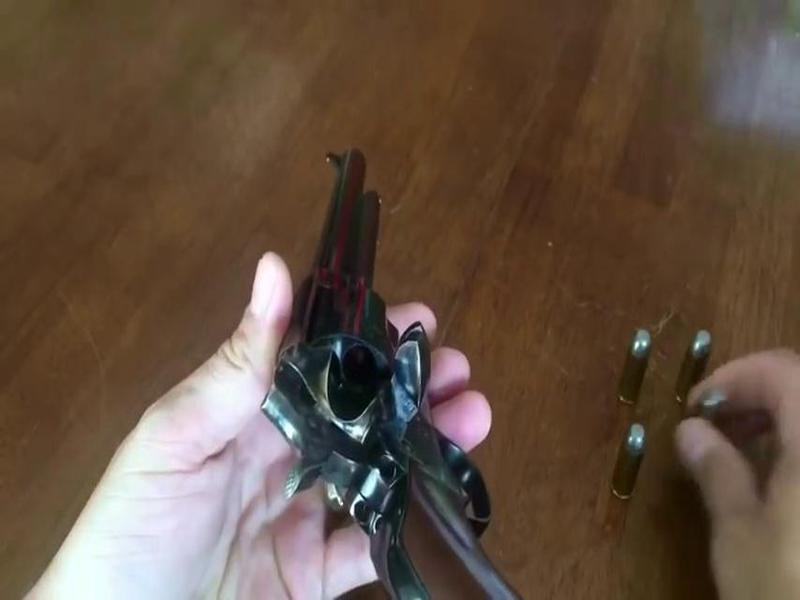Revolver: (244, 137, 504, 596)
